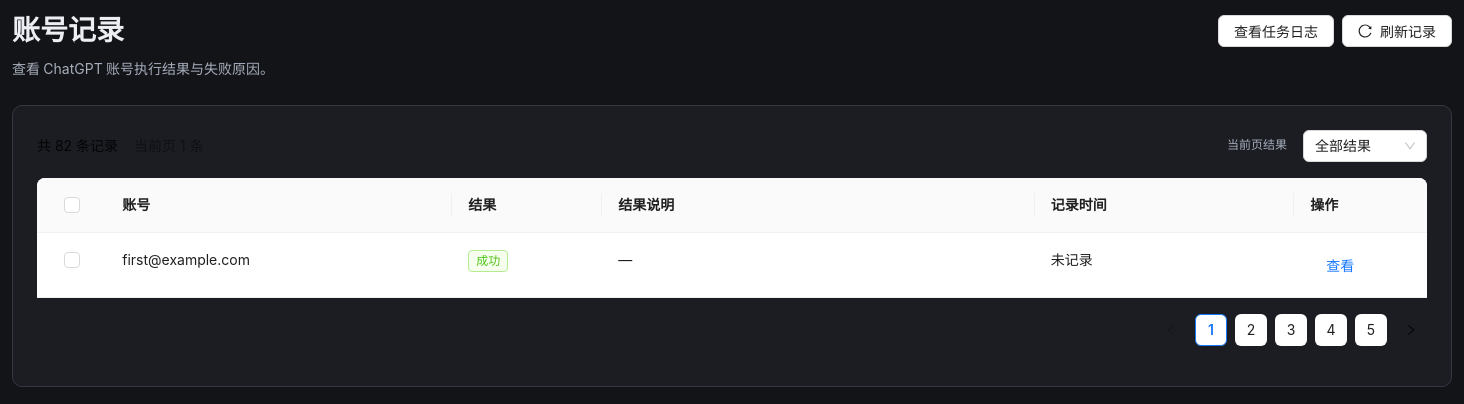
TaskHistory remote pagination › loads the selected page from the server and keeps the complete record count
Expected: the text "first@example.com" is shown, [122,251,250,268]
What coordinates should you click on to do the following:
click the list item titled "2"
I would click on:
 (1251, 330)
Its box is [1235,314,1267,346].
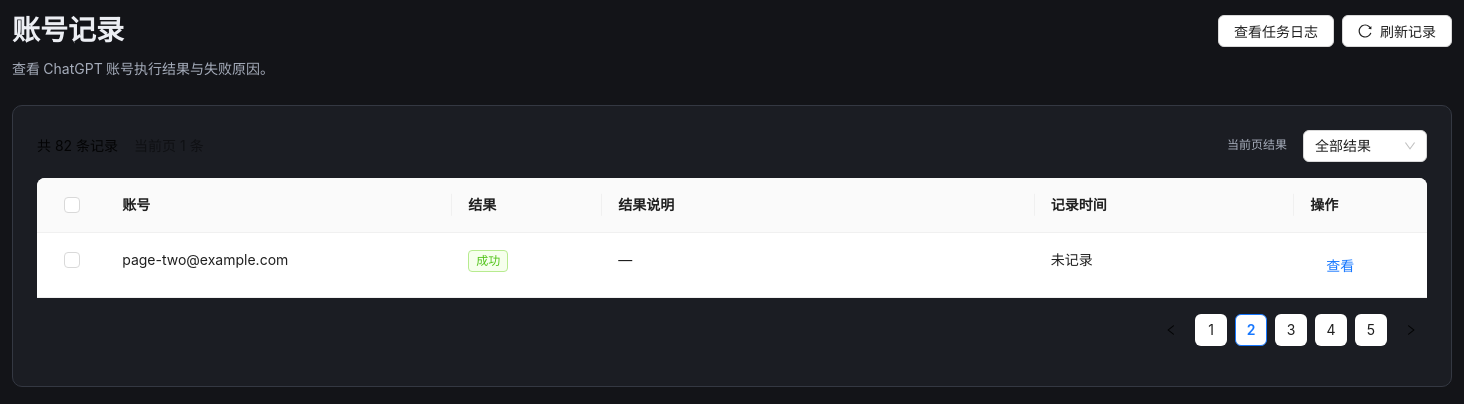
Expected: the text "共 82 条记录" is shown, [37,135,118,157]
Expected: the text "page-two@example.com" is shown, [122,251,288,268]
